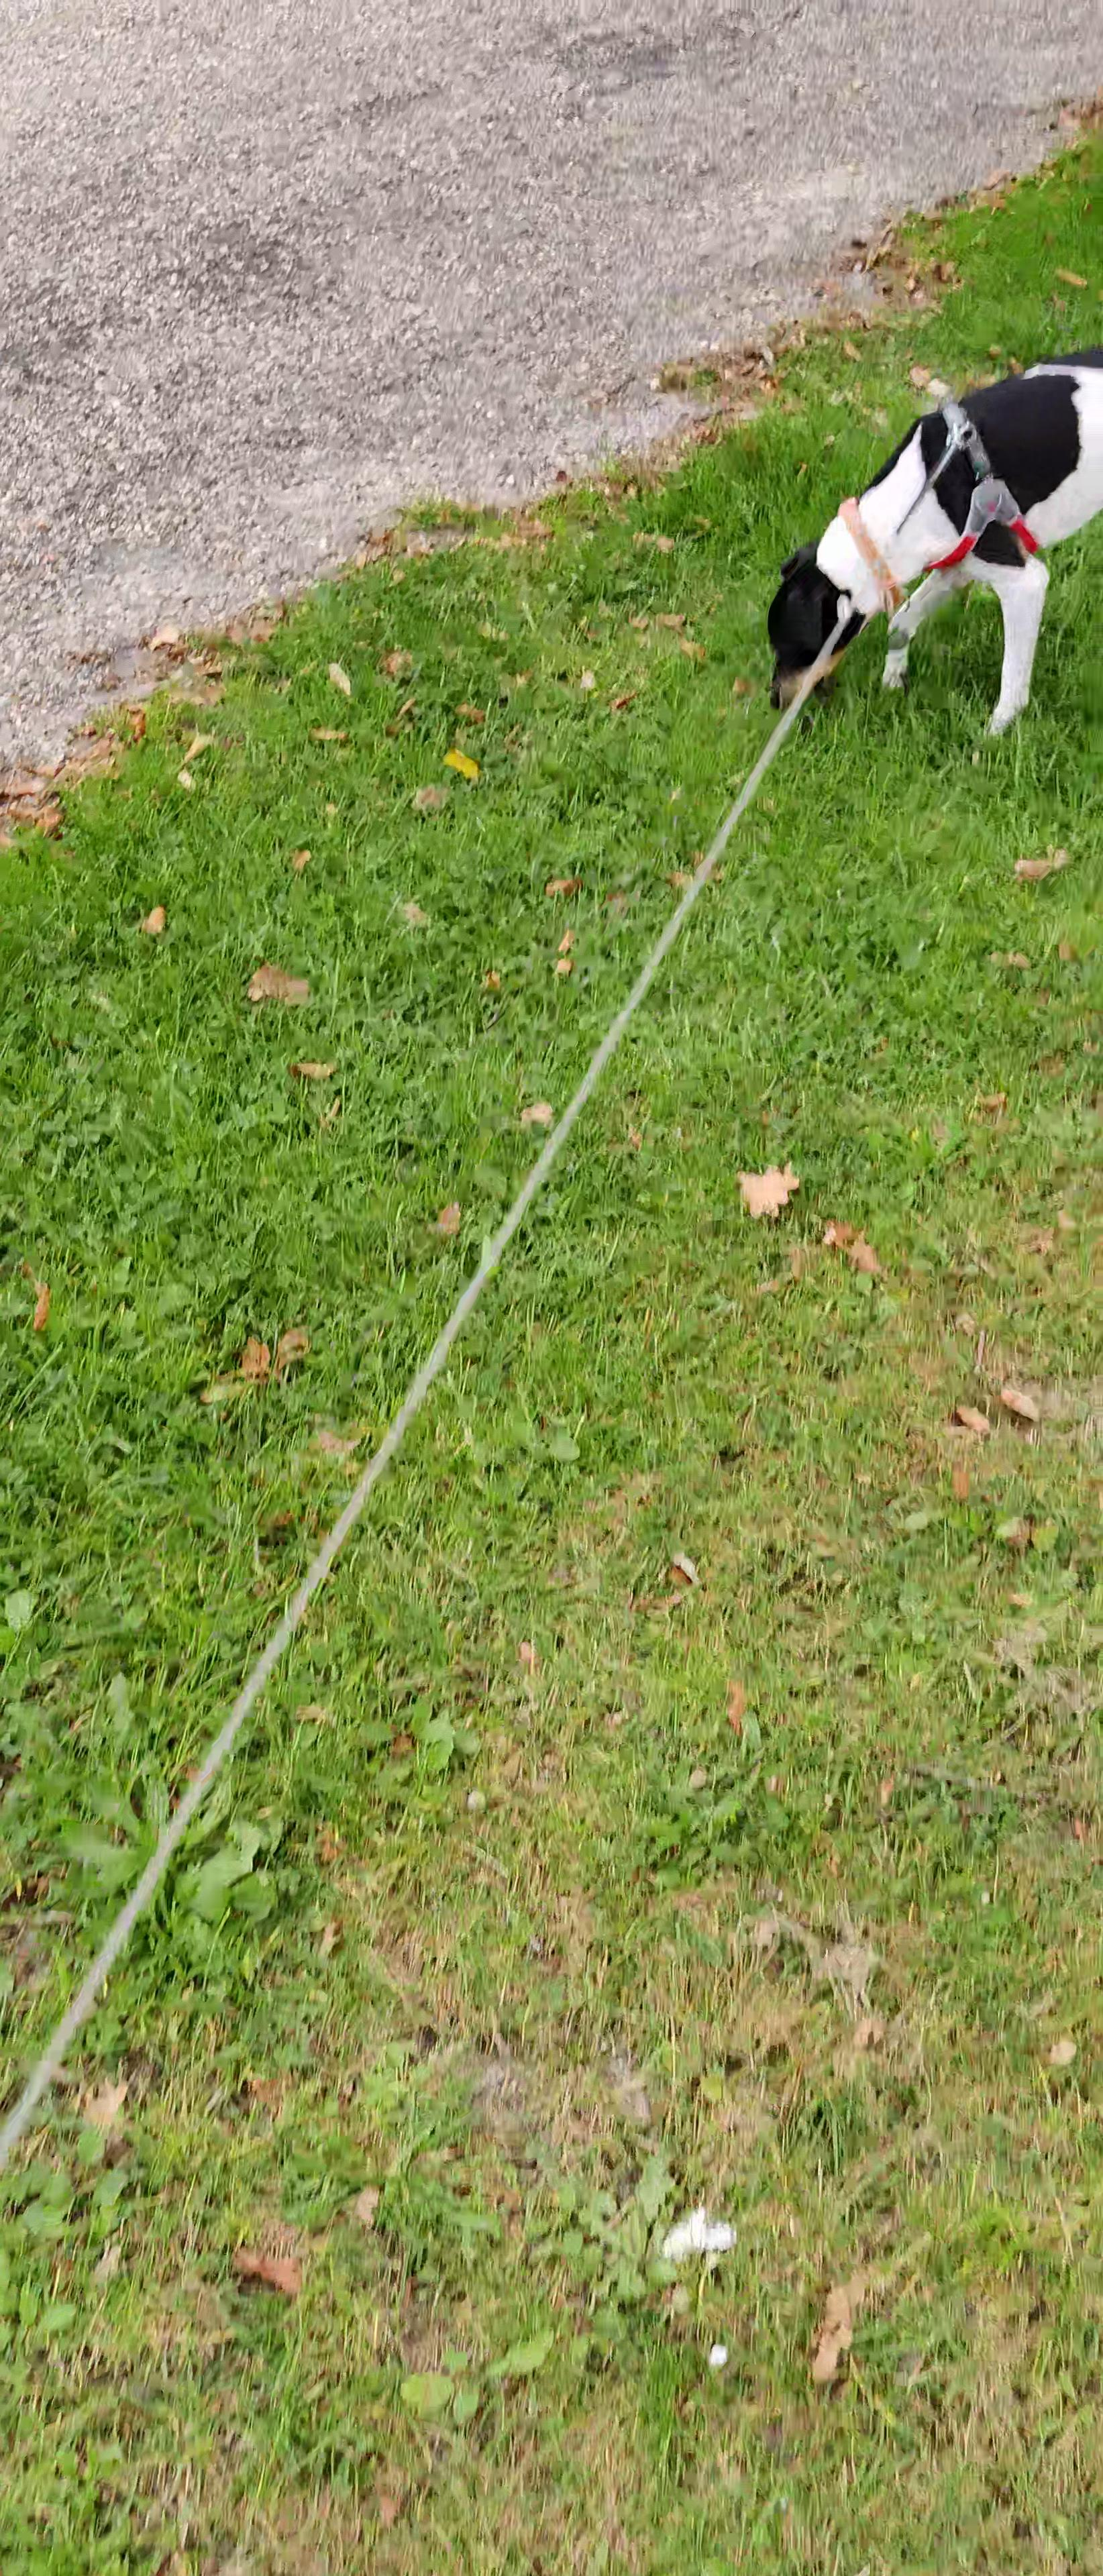Dog: (738, 309, 1103, 754)
